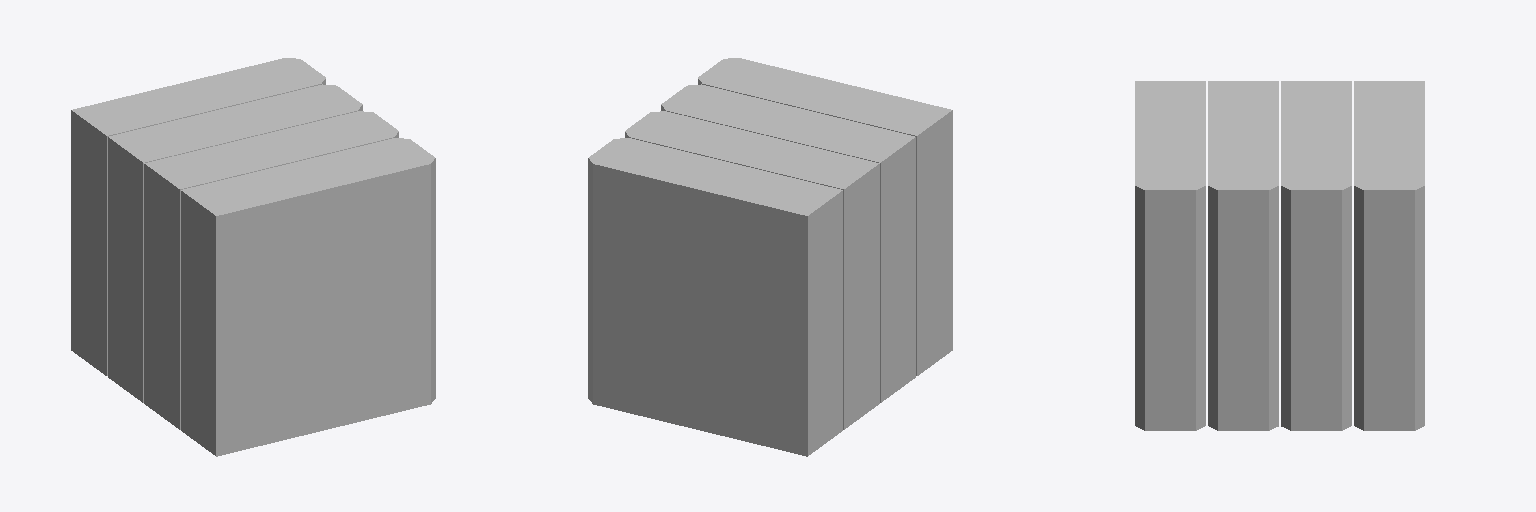
File: bookcollection2.obj
3 views of the same model, side by side, from view 1: azimuth 30°, elevation 25°; view 2: azimuth 150°, elevation 25°; view 3: azimuth 270°, elevation 25° (orthographic).
Parts seen in each view (by area): view 1: Cube.003; view 2: Cube.003; view 3: Cube.003.
Boxes of the visible parts, x1,y1,x2,y2 form: Cube.003: [71, 58, 435, 456]; Cube.003: [588, 58, 952, 456]; Cube.003: [1135, 81, 1424, 430].
Size of the model in its own units: 1.95 by 2 by 2.19.